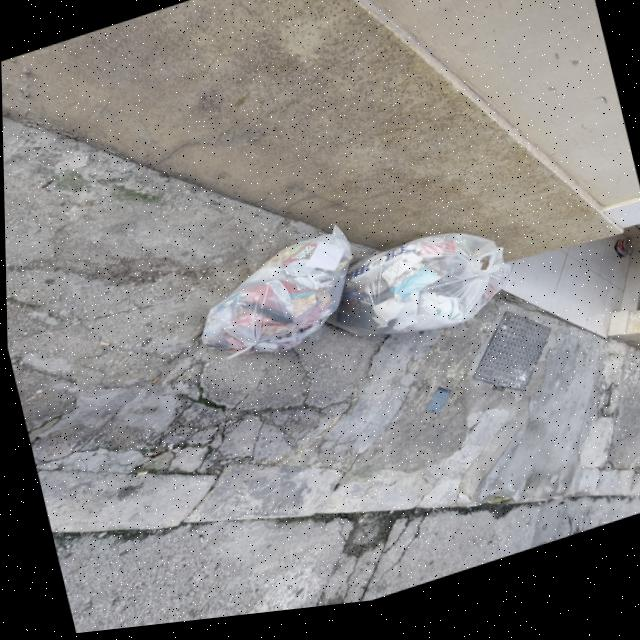Recycled Waste -Grey or Green Bag-: (312, 221, 522, 376), (180, 226, 370, 386)
